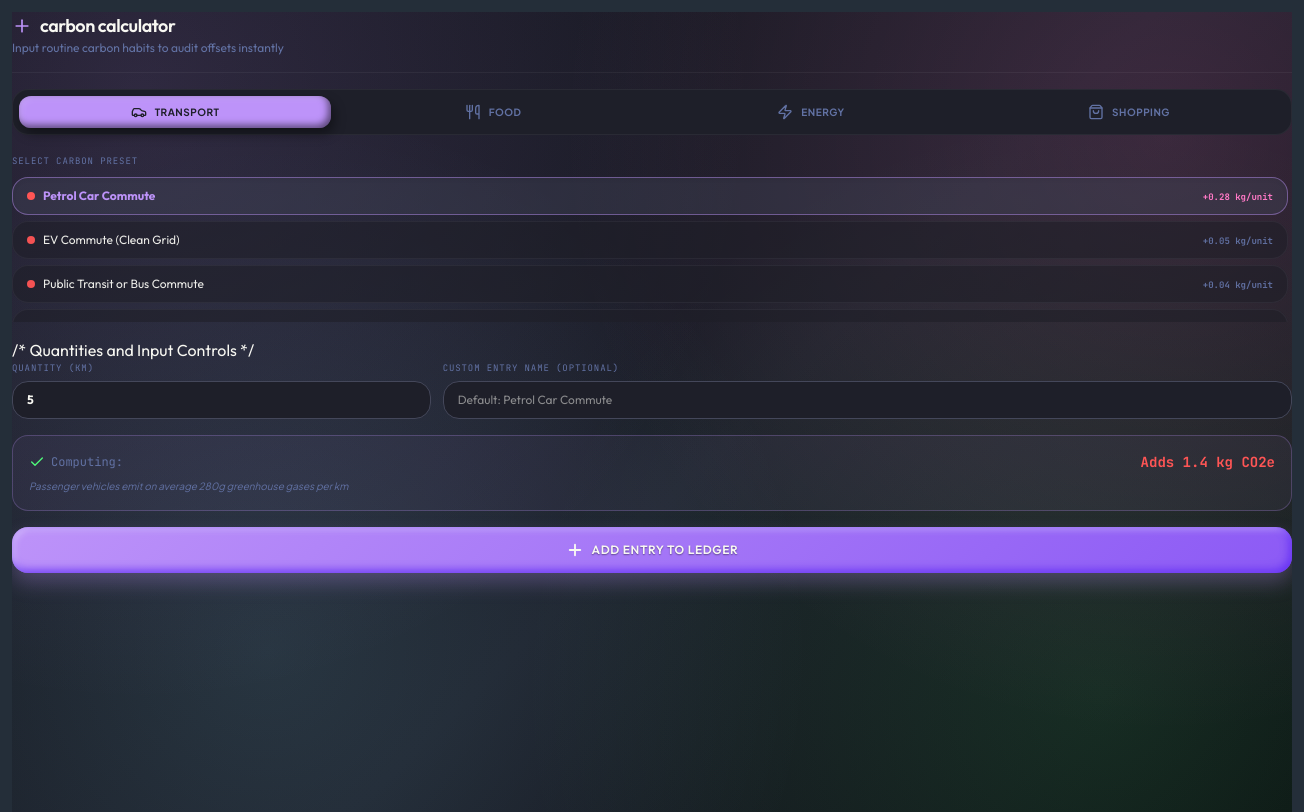
Test: DailyLedger › allows switching categories and updates presets
The width and height of the screenshot is (1304, 812).
# Switch to food category using button id
Step 1. Click the button "food" → click(493, 112), box [337,96,649,128]
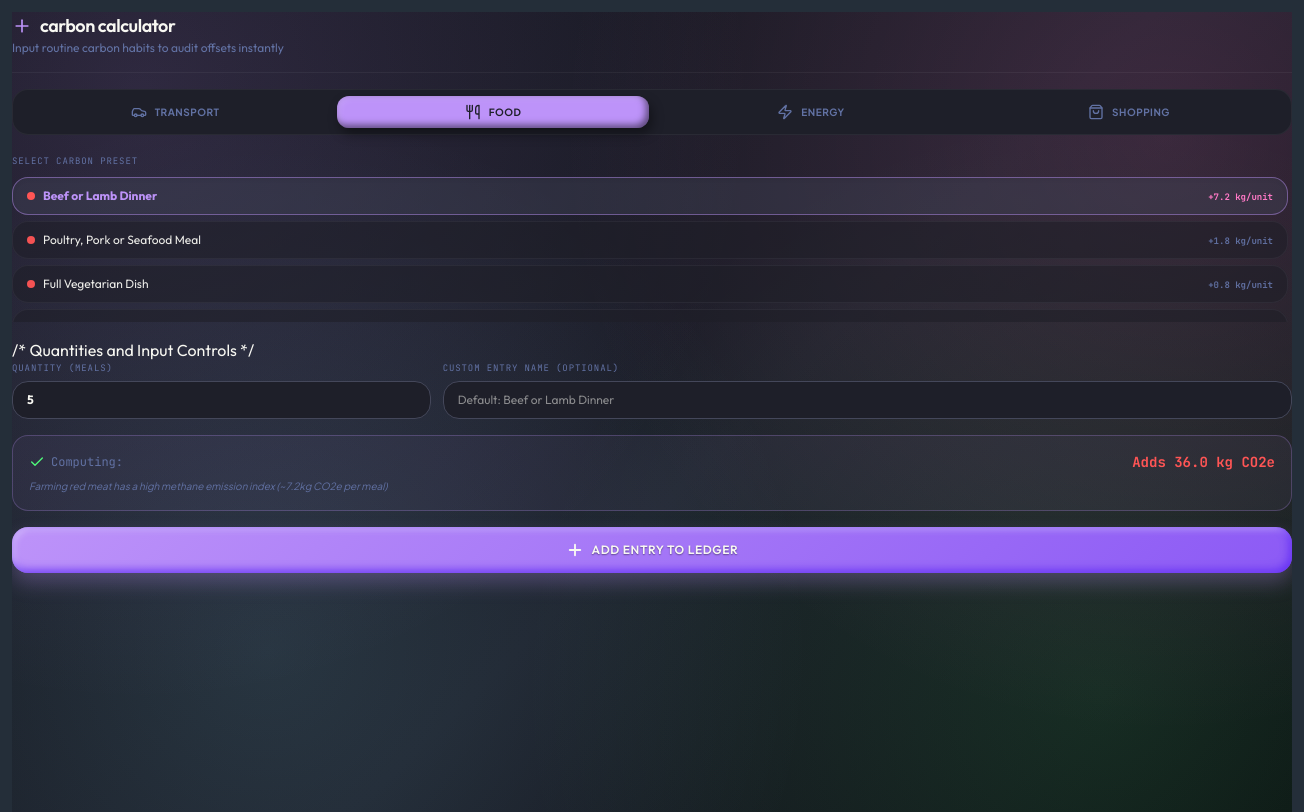
expect the button "Petrol Car Commute" is gone: met
expect the text "Beef or Lamb Dinner" is shown: met, box [43,188,157,204]
